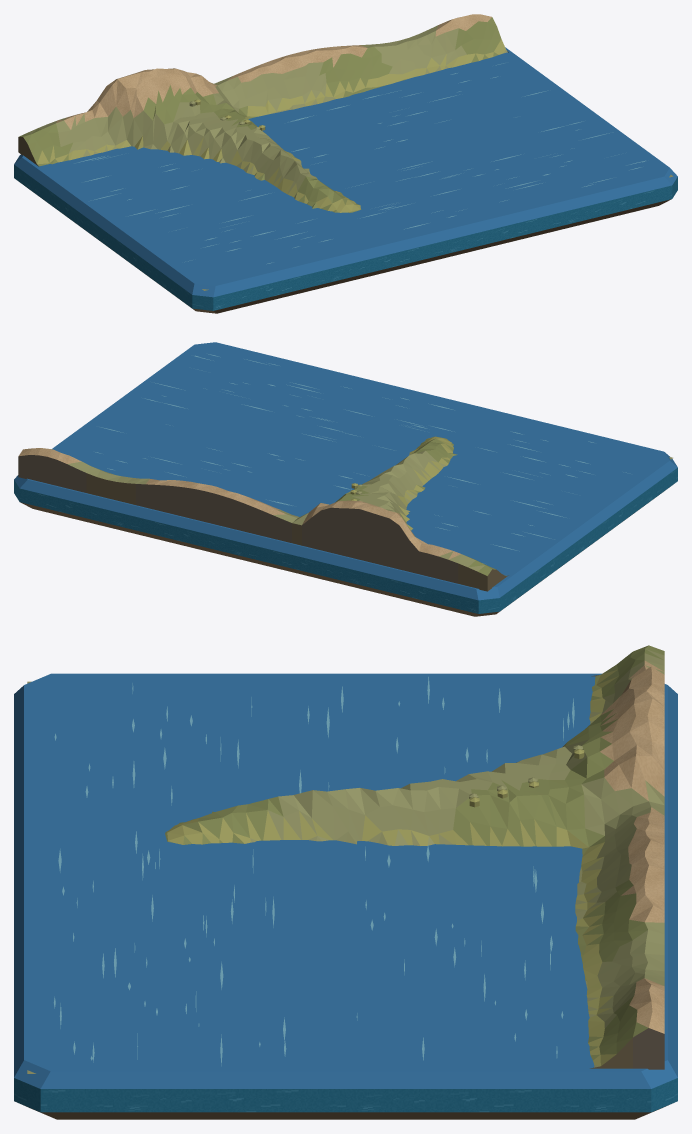
File: qinghai-lake.glb
3 views of the same model, one above another, from view 1: azimuth 30°, elevation 25°; view 2: azimuth 150°, elevation 25°; view 3: azimuth 270°, elevation 25° (orthographic). The views are drawn at different scales.
Parts seen in each view (by area): view 1: 青海湖·二郎剑; view 2: 青海湖·二郎剑; view 3: 青海湖·二郎剑.
Boxes of the visible parts, x1=… form: 青海湖·二郎剑: x1=14, y1=14, x2=677, y2=313; 青海湖·二郎剑: x1=14, y1=342, x2=677, y2=616; 青海湖·二郎剑: x1=14, y1=645, x2=677, y2=1119.
Size of the model in its own units: 6.15 by 1 by 4.25.
11 materials, 3 textured.
